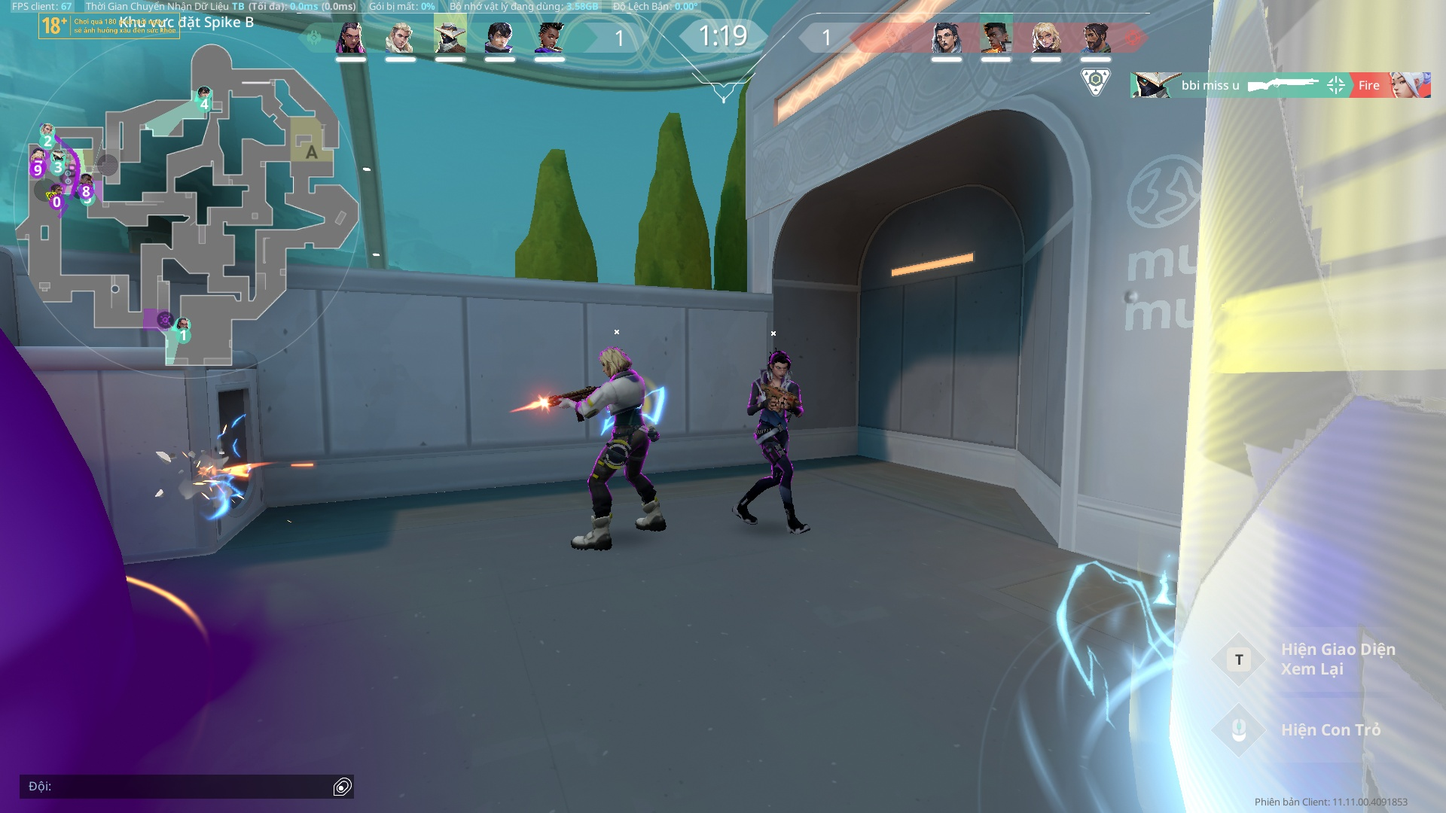body: (600, 371, 654, 435), (751, 371, 804, 434)
head: (601, 346, 624, 372), (768, 352, 788, 379)
